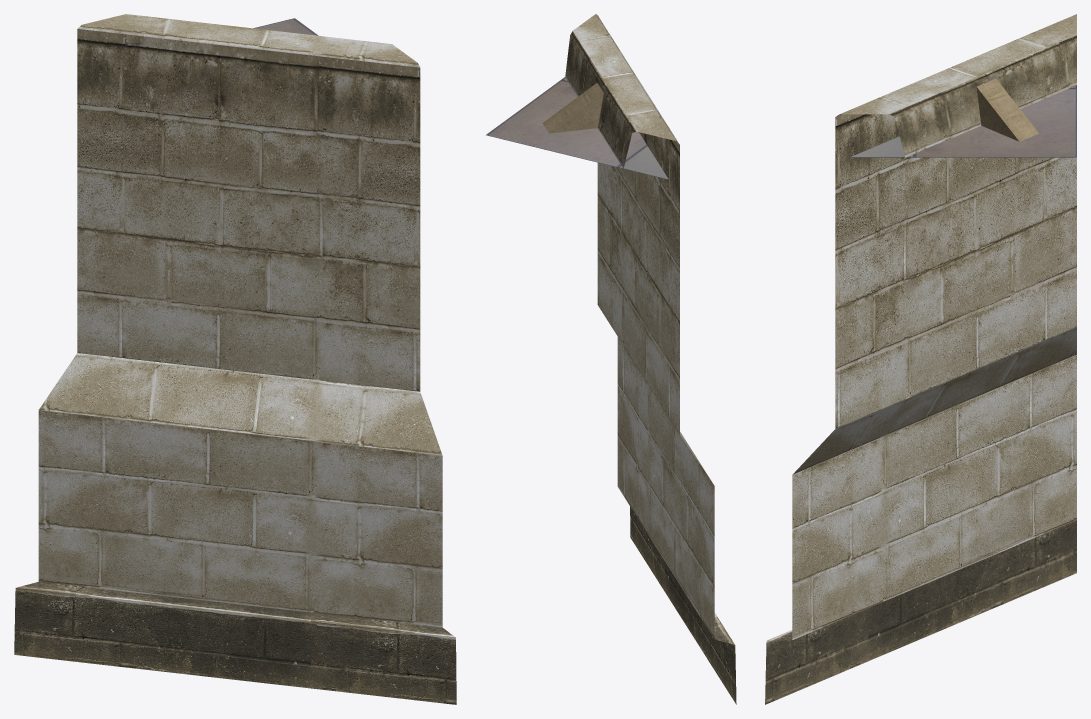
File: castle-wall-45d.fbx
3 views of the same model, side by side, from view 1: azimuth 30°, elevation 25°; view 2: azimuth 150°, elevation 25°; view 3: azimuth 270°, elevation 25° (orthographic). The views are drawn at different scales.
Parts seen in each view (by area): view 1: castle-wall-45d; view 2: castle-wall-45d; view 3: castle-wall-45d.
Part boxes in pixels (x1,y1,x2,y2): castle-wall-45d: (14, 14, 456, 704); castle-wall-45d: (486, 14, 736, 704); castle-wall-45d: (765, 14, 1076, 704).
Size of the model in its own units: 191 by 400 by 191.
